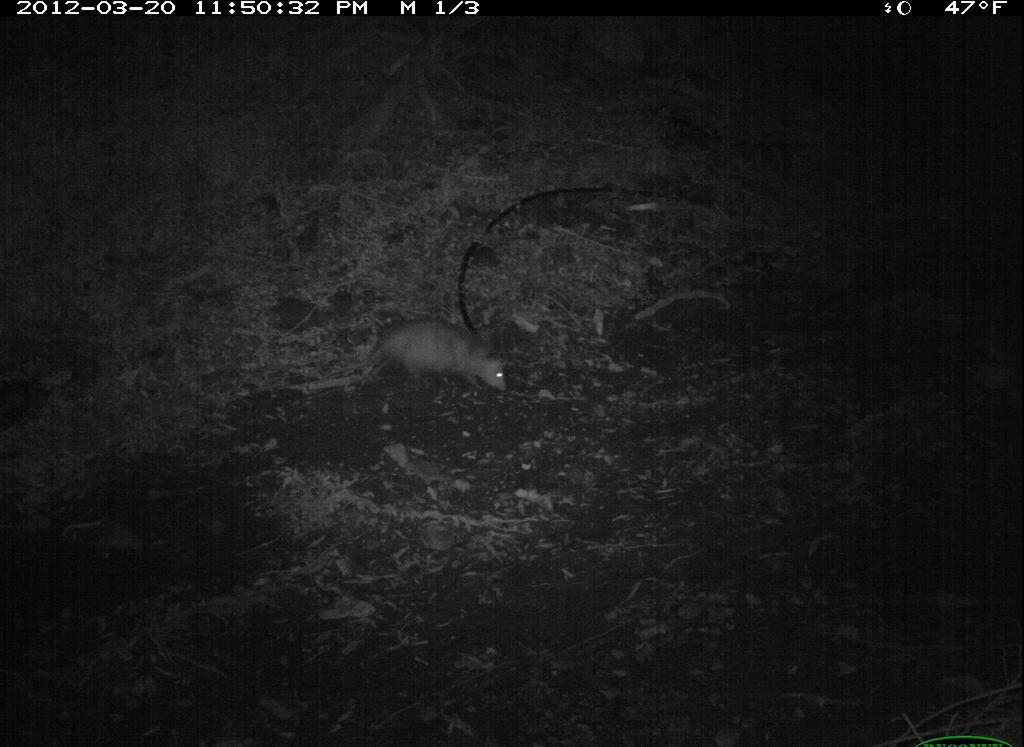opossum: (353, 310, 525, 420)
